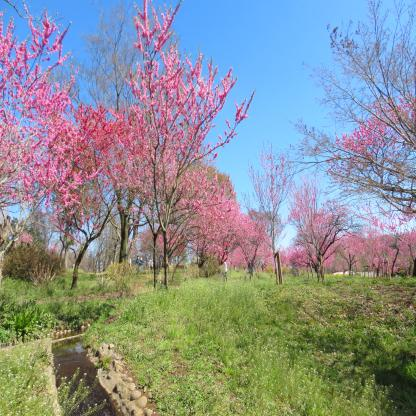Momo: (108, 0, 257, 274), (303, 0, 416, 277), (0, 1, 108, 232), (53, 97, 132, 266), (181, 162, 266, 261), (242, 140, 302, 237), (285, 186, 349, 266)
